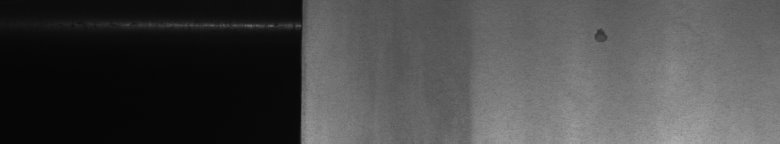fi: (591, 24, 612, 48)
